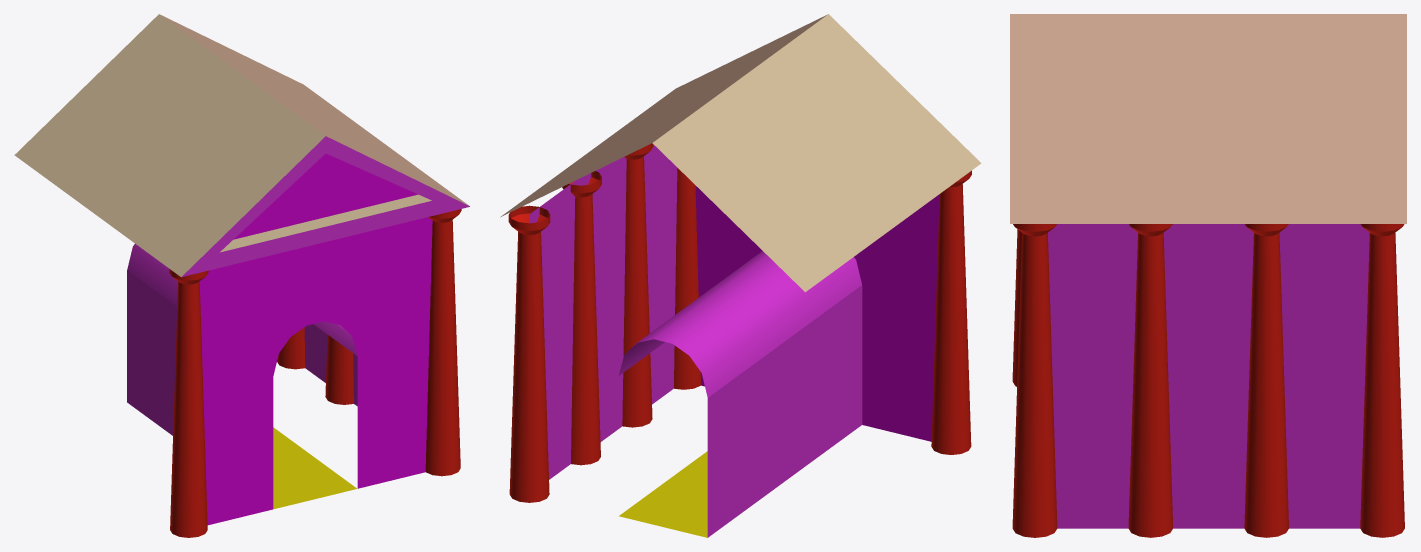
File: Templo3.fbx
The picture shows the model from 3 angles, left to right: view 1: azimuth 30°, elevation 25°; view 2: azimuth 150°, elevation 25°; view 3: azimuth 270°, elevation 25°; orthographic projection. The views are drawn at different scales.
Parts seen in each view (by area): view 1: Templo3; view 2: Templo3; view 3: Templo3.
Part boxes in pixels (<box>): Templo3: <box>14,14,469,537</box>; Templo3: <box>500,14,981,537</box>; Templo3: <box>1010,14,1406,537</box>.
Size of the model in its own units: 343 by 420 by 343.
